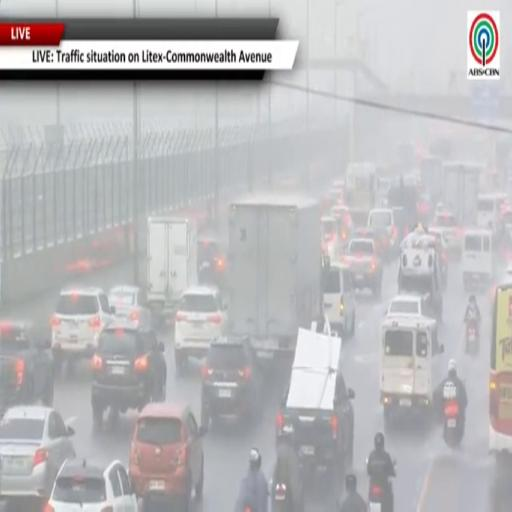bus: (489, 279, 511, 454), (345, 163, 376, 211)
car: (276, 329, 354, 485), (129, 404, 206, 511), (0, 406, 74, 509), (92, 323, 166, 425), (51, 287, 115, 374), (201, 338, 263, 425), (44, 458, 138, 511), (0, 320, 53, 412), (174, 286, 227, 374), (322, 263, 355, 337), (344, 238, 383, 297), (108, 285, 151, 326), (198, 233, 227, 289), (433, 211, 463, 258), (368, 208, 399, 253), (429, 227, 449, 285), (387, 295, 434, 317), (354, 227, 385, 258), (331, 205, 353, 246), (321, 216, 341, 260)
motorcycle: (270, 480, 303, 511), (444, 400, 464, 447), (369, 478, 393, 511), (369, 483, 392, 511), (272, 484, 292, 511), (466, 317, 479, 355)
truck: (228, 196, 322, 359), (147, 216, 197, 323), (442, 163, 483, 225), (420, 155, 443, 203)
